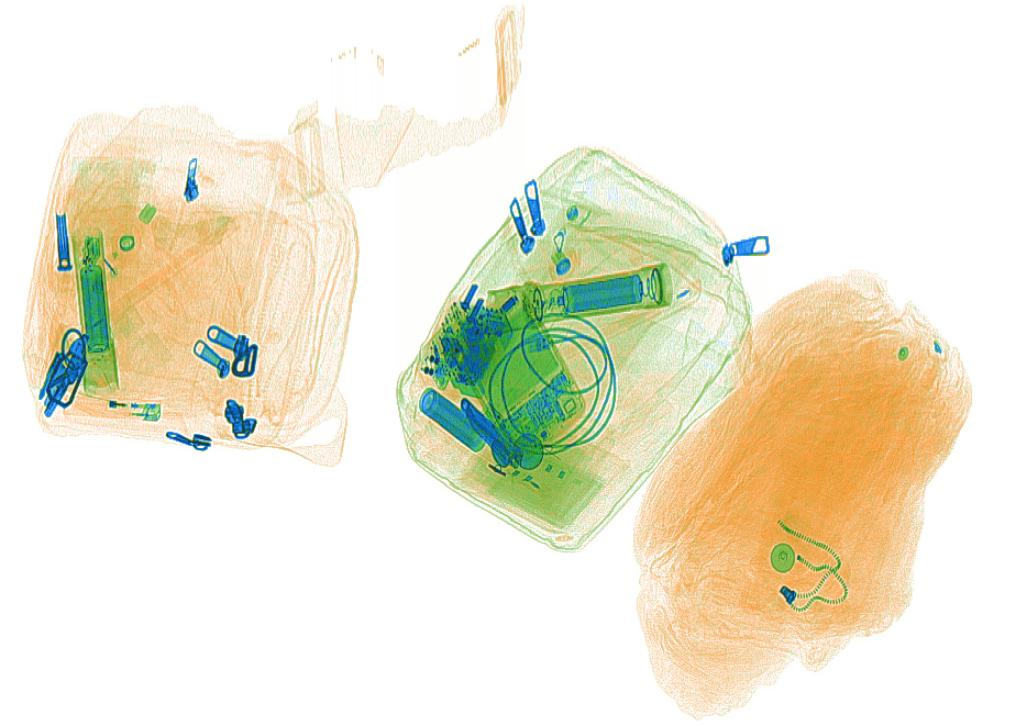battery: (416, 387, 487, 454), (559, 276, 648, 317), (78, 262, 111, 353)
lighter: (65, 392, 164, 425)
